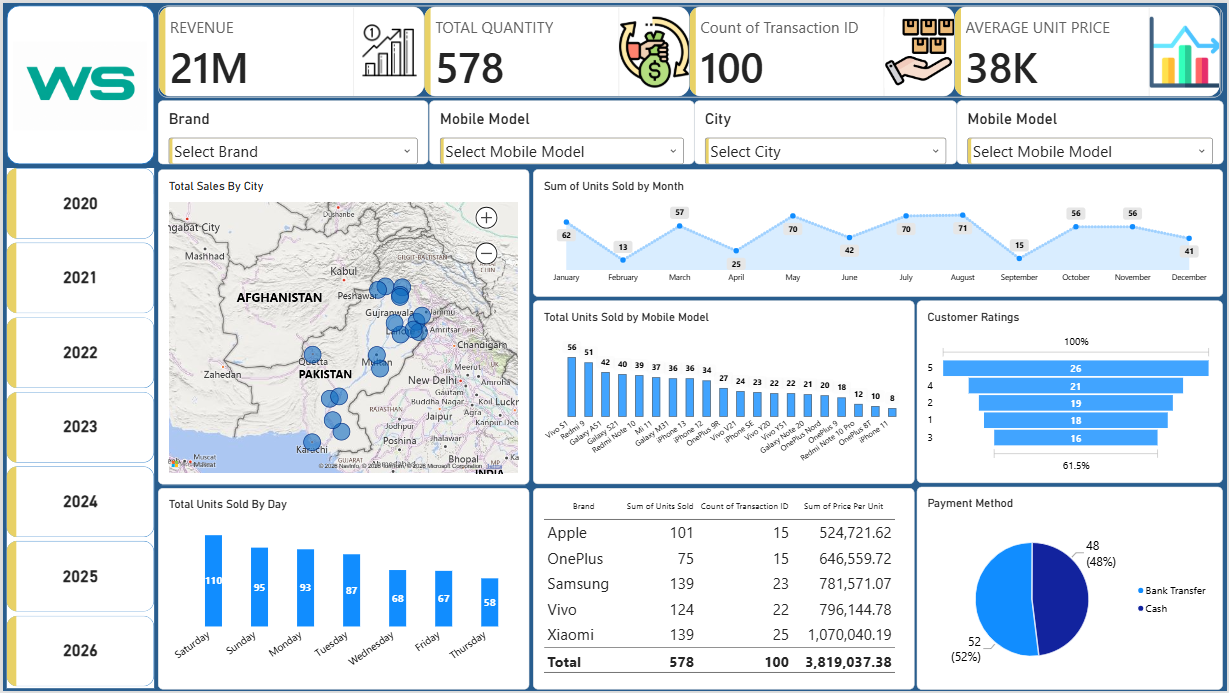

The page's visual inventory and layout, read from the dashboard file:
{"tool":"powerbi","page":{"name":"Page 1","canvas":[1920,1080],"ordinal":0},"visuals":[{"type":"advancedSlicerVisual","fields":{"Values":["Mobile_Sales_Data.Date.Variation.Date Hierarchy.Year"]},"box":[6,260,232,816],"z":0},{"type":"funnel","title":"Customer Ratings","fields":{"Category":["Mobile_Sales_Data.Customer Ratings"],"Y":["CountNonNull(Mobile_Sales_Data.Customer Ratings)"]},"box":[1434,466.7,480,286],"z":1000},{"type":"pieChart","title":"Payment Method","fields":{"Category":["Mobile_Sales_Data.Payment Method"],"Y":["CountNonNull(Mobile_Sales_Data.Payment Method)"]},"box":[1434,758,480,318],"z":2000},{"type":"columnChart","title":"Total Units Sold by Mobile Model","fields":{"Category":["Mobile_Sales_Data.Mobile Model"],"Y":["Sum(Mobile_Sales_Data.Units Sold)"]},"box":[832,466,598,288],"z":3000},{"type":"map","title":"Total Sales By City","fields":{"Category":["Mobile_Sales_Data.City"]},"box":[244,260,582,494],"z":4000},{"type":"lineChart","fields":{"Category":["Mobile_Sales_Data.Date.Variation.Date Hierarchy.Month"],"Y":["Sum(Mobile_Sales_Data.Units Sold)"]},"box":[832,260,1082,200],"z":5000},{"type":"ribbonChart","title":"Total Units Sold By Day","fields":{"Category":["Mobile_Sales_Data.Day Name"],"Y":["Sum(Mobile_Sales_Data.Units Sold)"]},"box":[244,760,582,316],"z":6000},{"type":"tableEx","fields":{"Values":["Mobile_Sales_Data.Brand","Sum(Mobile_Sales_Data.Units Sold)","CountNonNull(Mobile_Sales_Data.Transaction ID)","Sum(Mobile_Sales_Data.Price Per Unit)"]},"box":[831.4,760.8,598,315.7],"z":7000},{"type":"cardVisual","fields":{"Data":["Mobile_Sales_Data.REVENUE","Mobile_Sales_Data.TOTAL QUANTITY","CountNonNull(Mobile_Sales_Data.Transaction ID)","Mobile_Sales_Data.AVERAGE UNIT PRICE"]},"box":[248,8,1671.4,137.1],"z":8000},{"type":"listSlicer","fields":{"Values":["Mobile_Sales_Data.Brand"]},"box":[244,152,424,100],"z":9000},{"type":"listSlicer","fields":{"Values":["Mobile_Sales_Data.City"]},"box":[1084,152,412,100],"z":10000},{"type":"listSlicer","fields":{"Values":["Mobile_Sales_Data.Mobile Model"]},"box":[668,152,416,100],"z":11000},{"type":"listSlicer","fields":{"Values":["Mobile_Sales_Data.Mobile Model"]},"box":[1496,152,418,100],"z":12000},{"type":"shape","box":[6,8,232,244],"z":13000},{"type":"image","box":[16,24,210,214],"z":14000}]}

Visuals, with their boxes in screenshot pixels (x1, y1, x2, y2), scaled from the page's 1920x1080 canvas onto the 1229x693 screenshot:
advancedSlicerVisual - Mobile_Sales_Data.Date.Variation.Date Hierarchy.Year: 4, 167, 152, 690
"Customer Ratings" funnel: 918, 299, 1225, 483
"Payment Method" pieChart: 918, 486, 1225, 690
"Total Units Sold by Mobile Model" columnChart: 533, 299, 915, 484
"Total Sales By City" map: 156, 167, 529, 484
lineChart - Mobile_Sales_Data.Date.Variation.Date Hierarchy.Month x Sum(Mobile_Sales_Data.Units Sold): 533, 167, 1225, 295
"Total Units Sold By Day" ribbonChart: 156, 488, 529, 690
tableEx - Mobile_Sales_Data.Brand x Sum(Mobile_Sales_Data.Units Sold): 532, 488, 915, 691
cardVisual - Mobile_Sales_Data.REVENUE x Mobile_Sales_Data.TOTAL QUANTITY: 159, 5, 1228, 93
listSlicer - Mobile_Sales_Data.Brand: 156, 98, 428, 162
listSlicer - Mobile_Sales_Data.City: 694, 98, 958, 162
listSlicer - Mobile_Sales_Data.Mobile Model: 428, 98, 694, 162
listSlicer - Mobile_Sales_Data.Mobile Model: 958, 98, 1225, 162
shape: 4, 5, 152, 162
image: 10, 15, 145, 153
